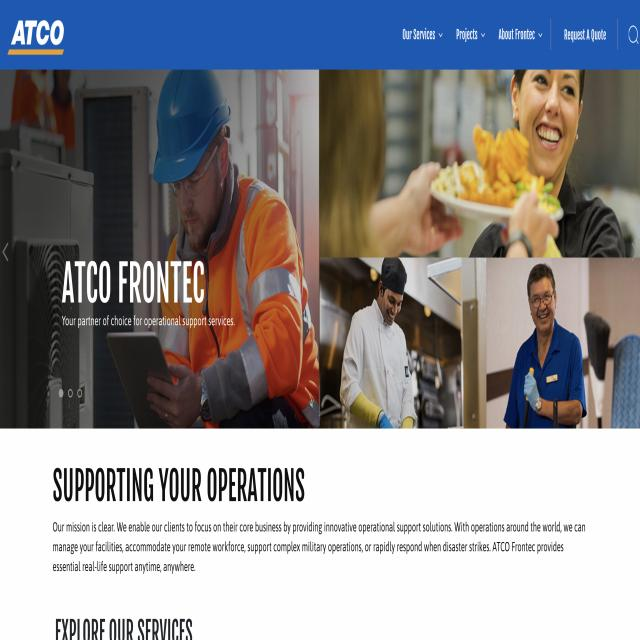Logo: (9, 4, 69, 62)
Navigation: (397, 13, 622, 51)
